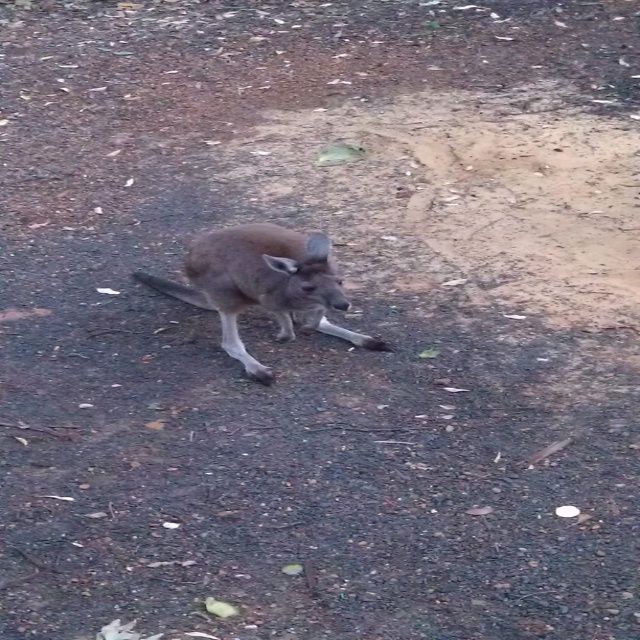Kangaroo: (130, 216, 390, 390)
